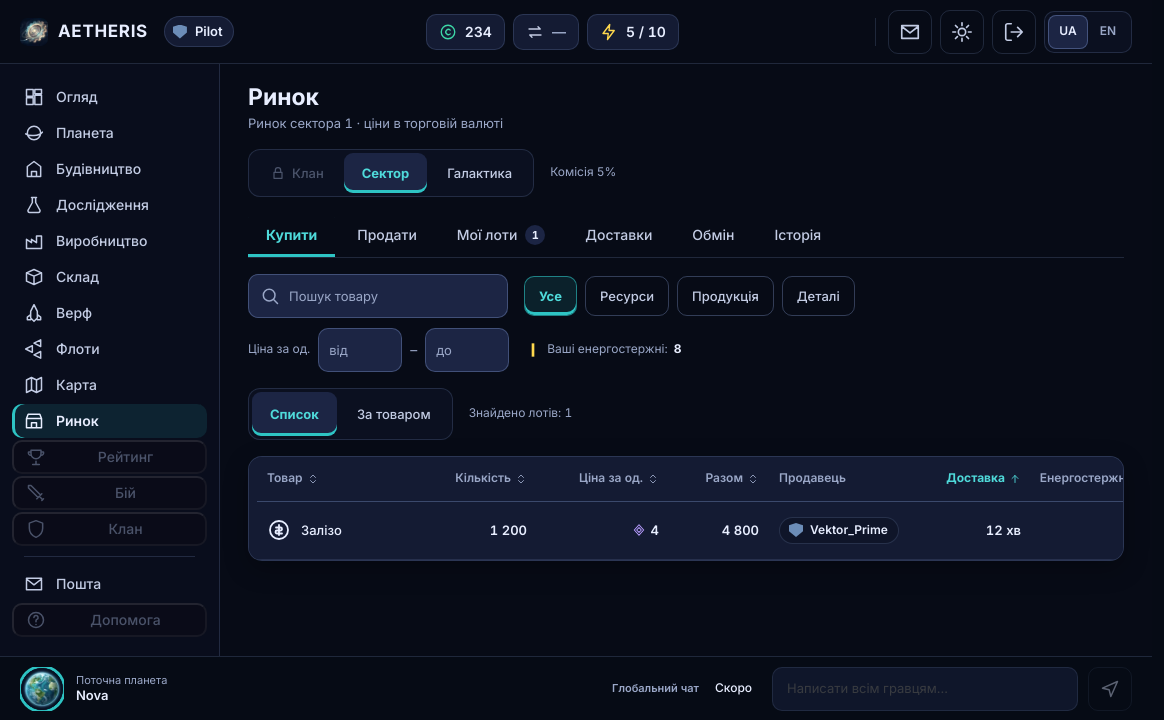
Test: the screen of the market: the frame and the levels › reads the lots of the level that is picked
The width and height of the screenshot is (1164, 720).
Click the button "Галактика". click: (480, 173)
box: [429,153,530,193]
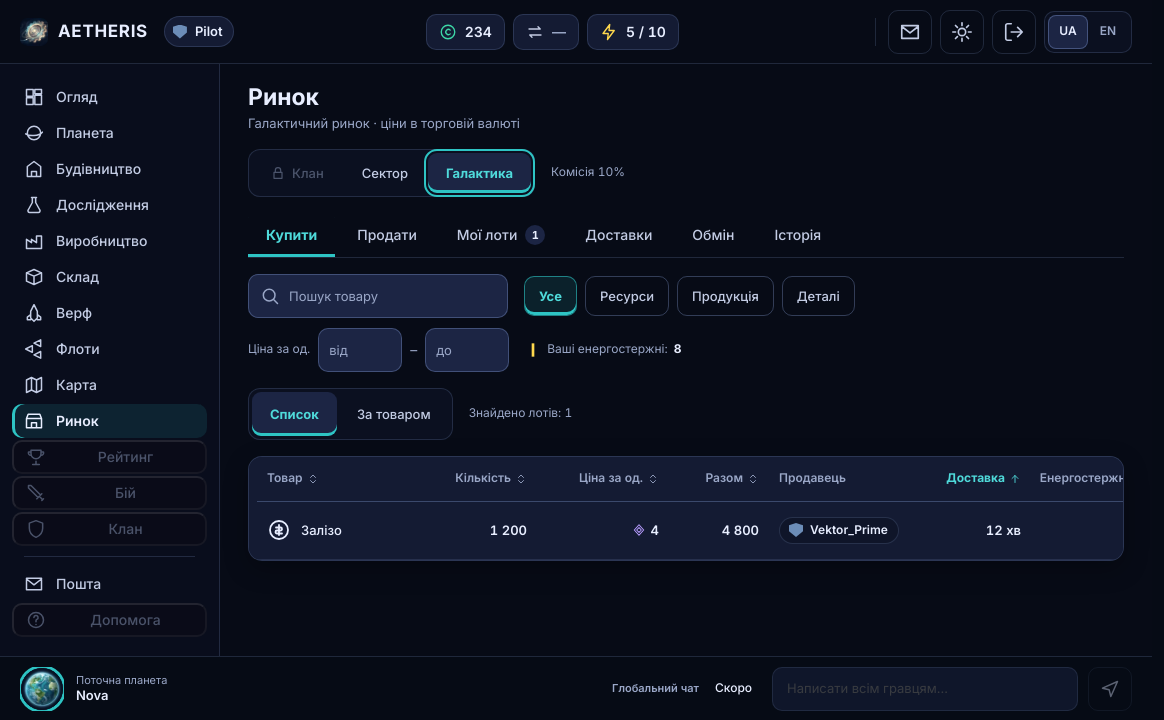
Check: the text "Комісія 10%" is shown, box [551,164,625,181]
Check: the text "Галактичний ринок · ціни в торговій валюті" is shown, box [248,115,520,131]
